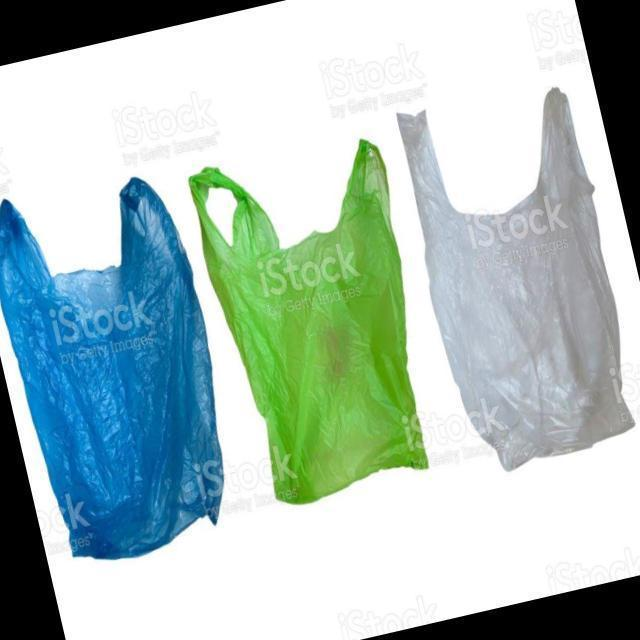Plastic_Bag: (181, 126, 449, 514)
